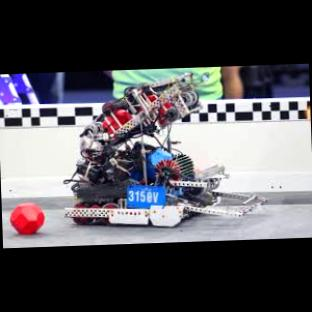Robot: (63, 73, 266, 227)
V5_RED: (11, 203, 43, 234)
